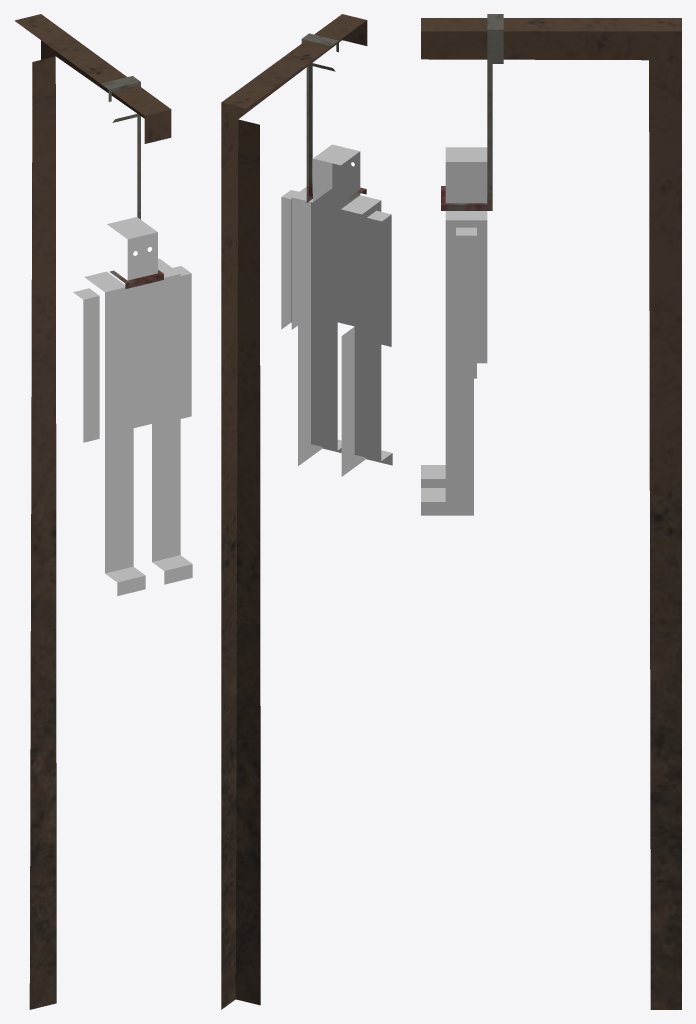
Rendered from Gallows_to_Unity.fbx.
The picture shows the model from 3 angles, left to right: view 1: azimuth 30°, elevation 25°; view 2: azimuth 150°, elevation 25°; view 3: azimuth 270°, elevation 25°; orthographic projection. The views are drawn at different scales.
Visible parts, largest first — view 1: Gallows; view 2: Gallows; view 3: Gallows.
Boxes of the visible parts, x1=… form: Gallows: x1=14, y1=14, x2=192, y2=1009; Gallows: x1=221, y1=14, x2=392, y2=1009; Gallows: x1=421, y1=14, x2=681, y2=1009.
Size of the model in its own units: 57.48 by 497 by 120.
